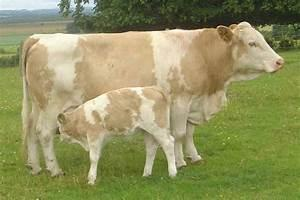cow: (19, 21, 284, 177), (56, 84, 178, 185)
